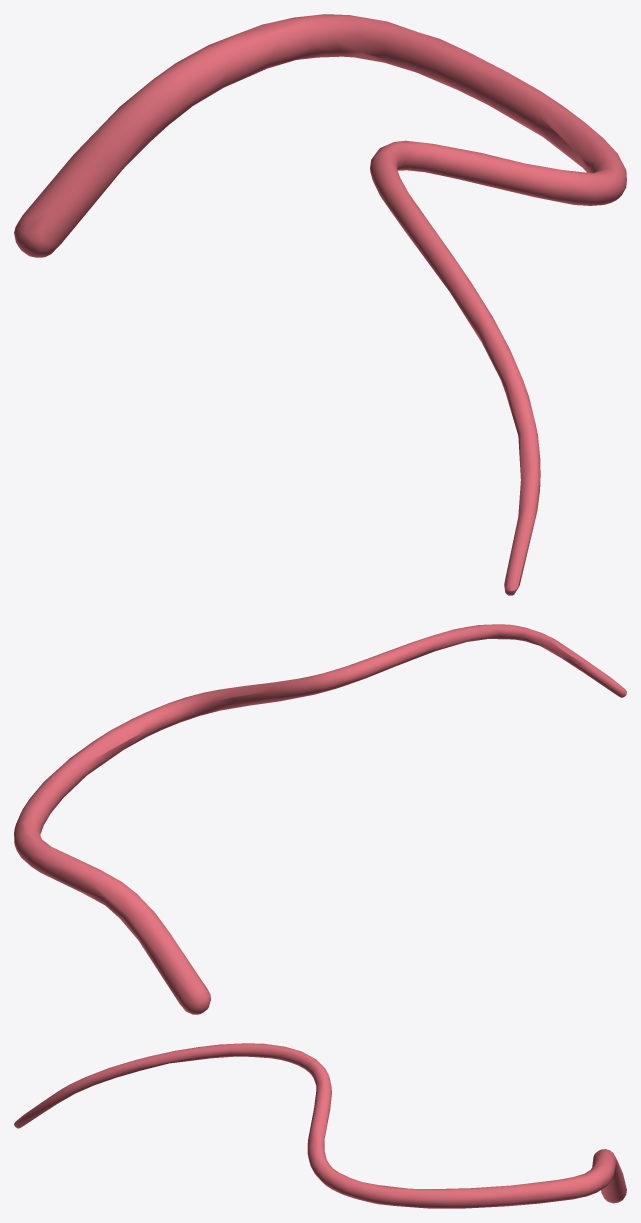
File: fma49729_fj5144.glb
3 renders of one model, top to bottom at view 1: azimuth 30°, elevation 25°; view 2: azimuth 150°, elevation 25°; view 3: azimuth 270°, elevation 25°, orthographic. The views are drawn at different scales.
Visible parts, largest first — view 1: FMA49729_FJ5144; view 2: FMA49729_FJ5144; view 3: FMA49729_FJ5144.
Part boxes in pixels (box(x1,y1,x2,y2)): FMA49729_FJ5144: box(14, 14, 626, 595); FMA49729_FJ5144: box(14, 624, 626, 1014); FMA49729_FJ5144: box(14, 1043, 626, 1208).
Bounding box in the file's own units: 0.0149 × 0.00964 × 0.0326.
